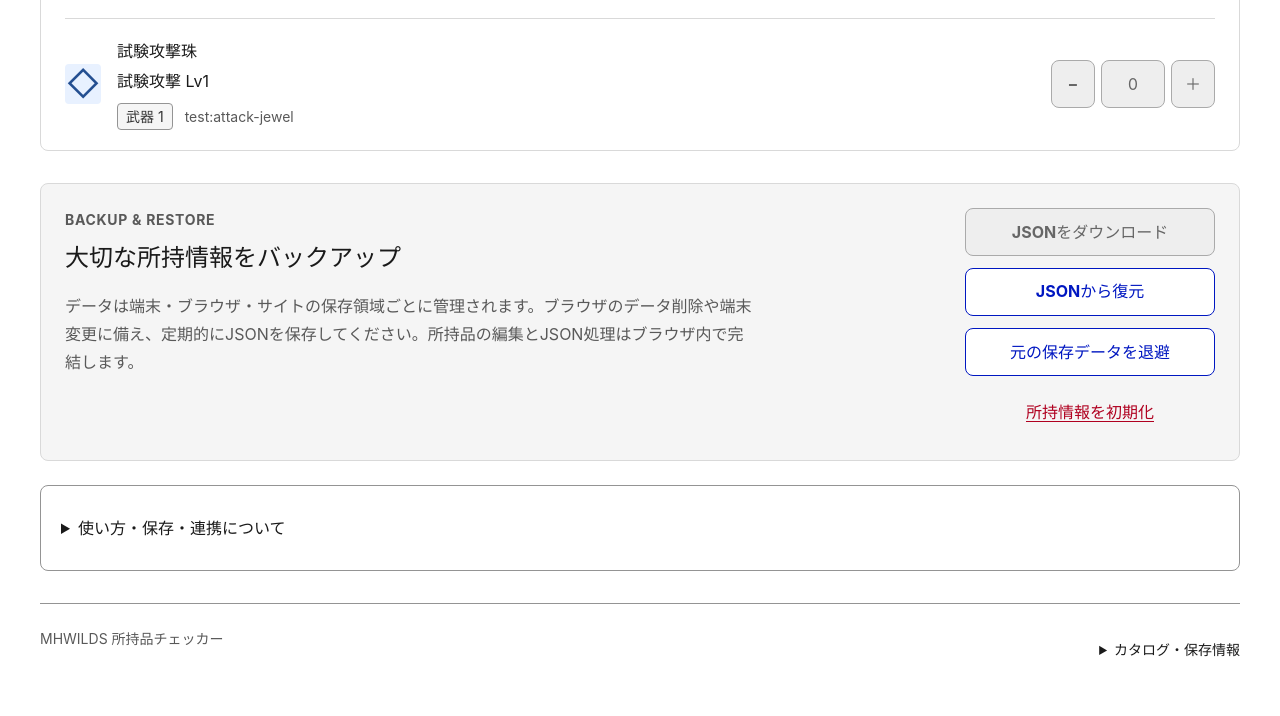
Test: Inventory checker › keeps corrupt raw through cancel and protects it on confirmed reset
(page scrolled)
Expected: the heading "試験攻撃珠" is shown, [117, 41, 197, 61]
Expected: the button named "試験攻撃珠を1個増やす" is disabled, [1171, 60, 1215, 108]
Click the button "所持情報を初期化". click: (1090, 412)
box: [965, 388, 1215, 436]
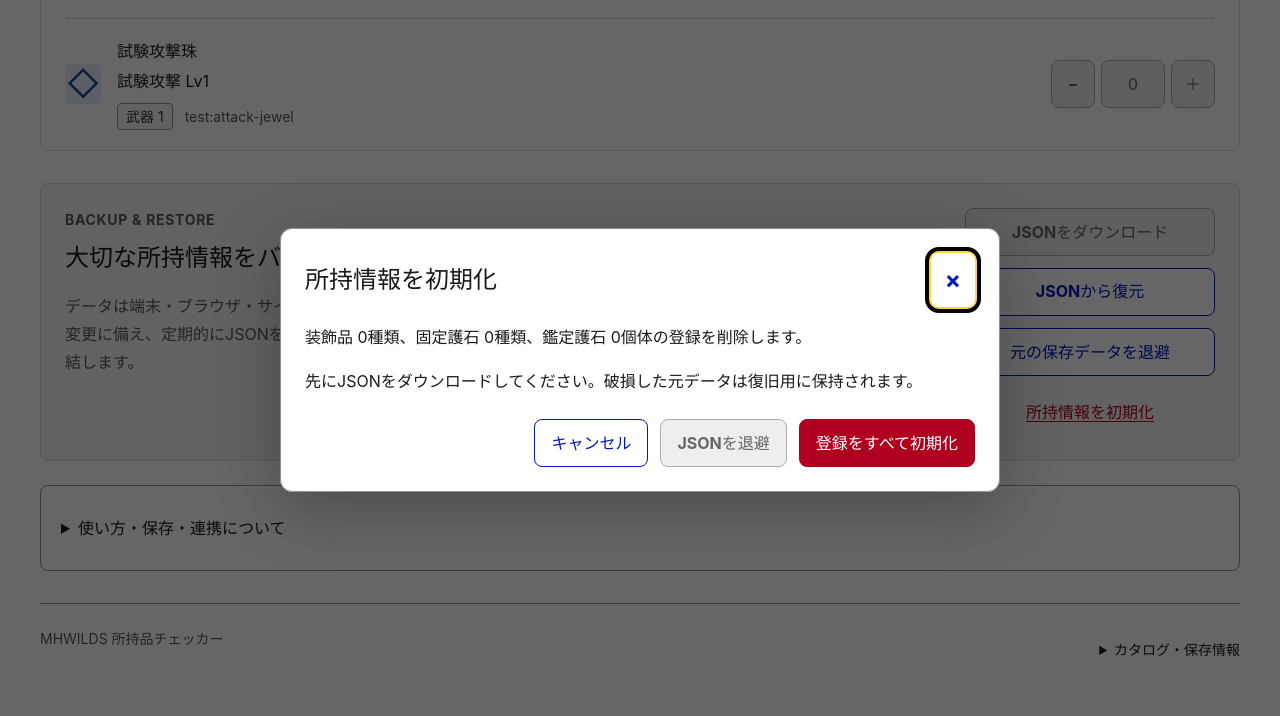
Click the button "キャンセル". click: (591, 443)
box: [534, 419, 648, 467]
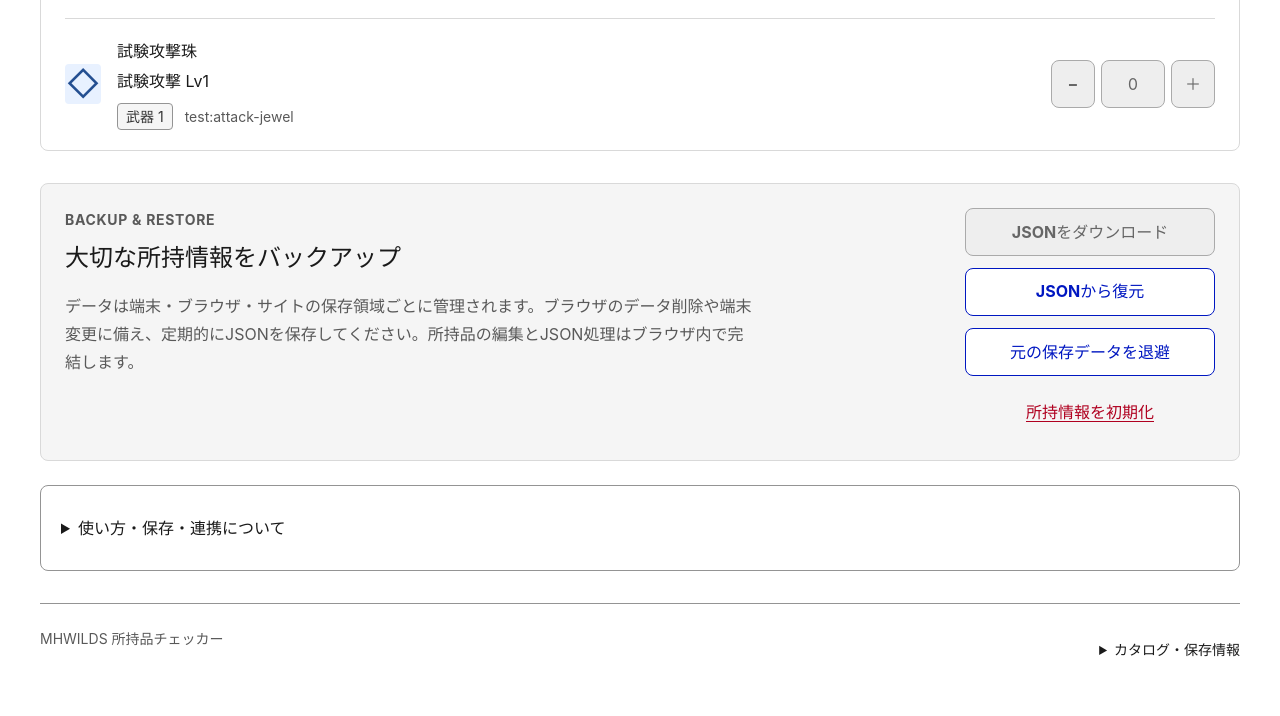
Click the button "所持情報を初期化". click: (1090, 412)
box: [965, 388, 1215, 436]
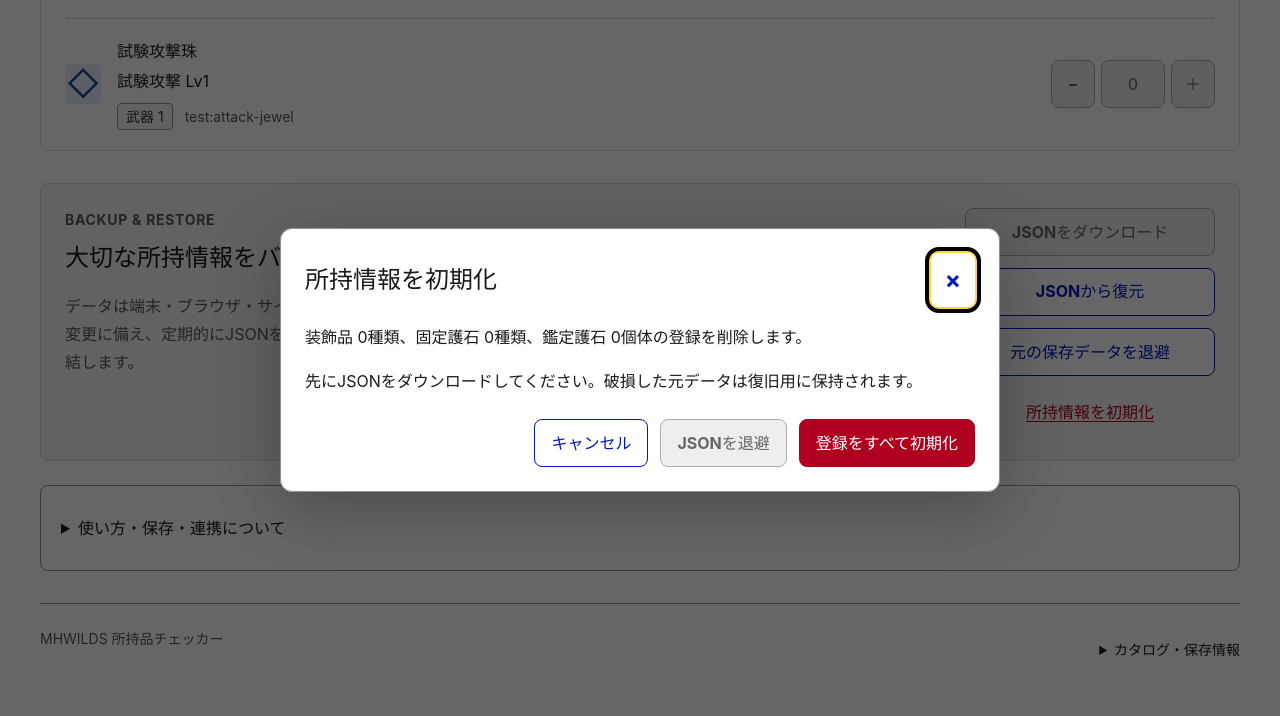
Click the button "登録をすべて初期化". click: (887, 443)
box: [799, 419, 975, 467]
(page scrolled)
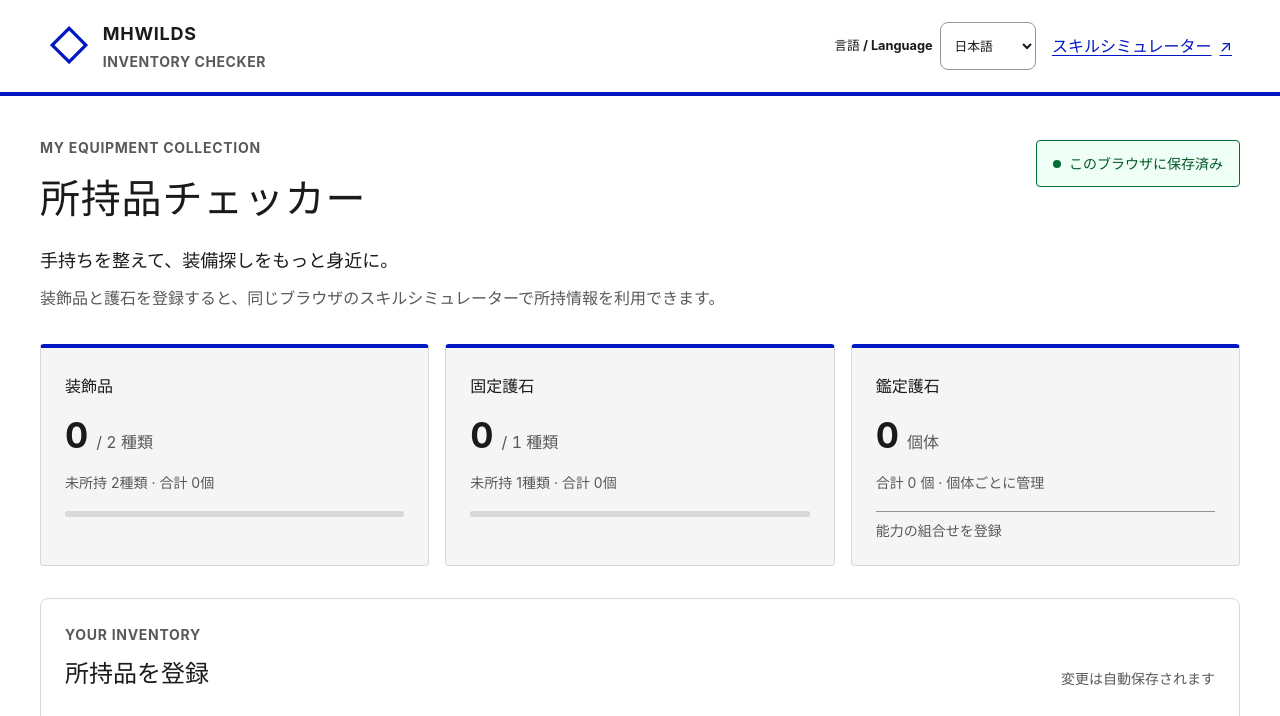
Expected: the text "このブラウザに保存済み" is shown, [1036, 140, 1240, 187]
